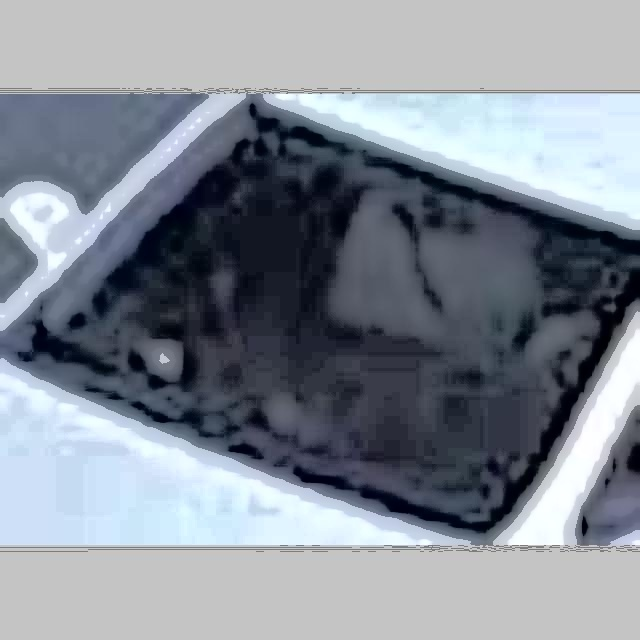pakai: (316, 154, 504, 365)
